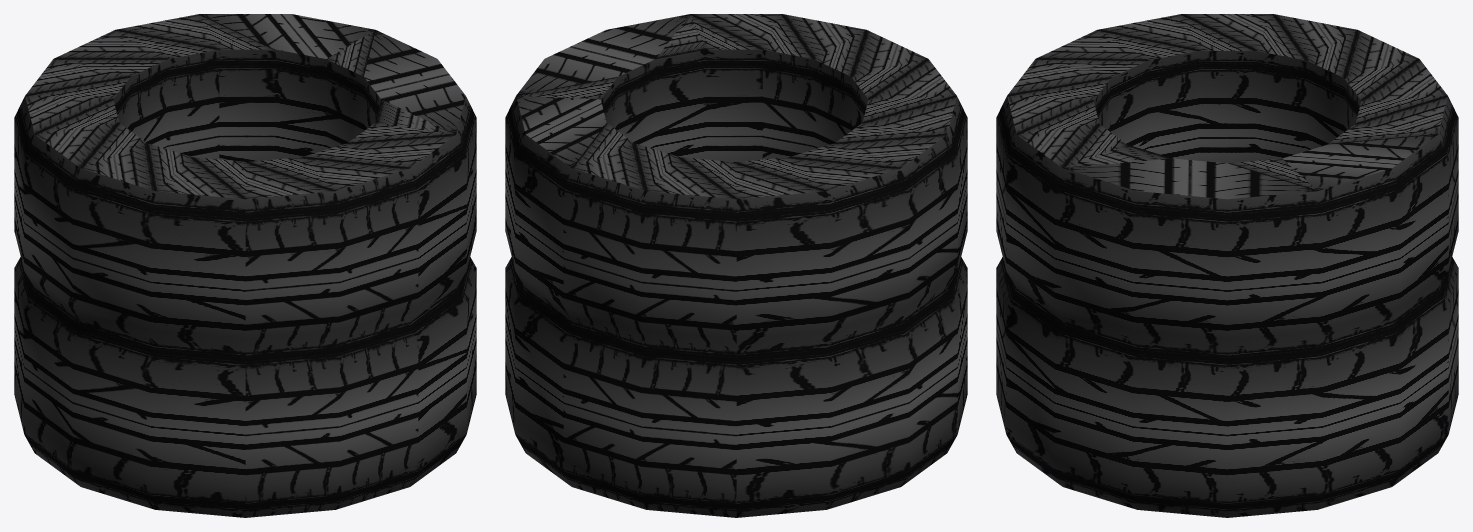
Rendered from tire.FBX.
The picture shows the model from 3 angles, left to right: view 1: azimuth 30°, elevation 25°; view 2: azimuth 150°, elevation 25°; view 3: azimuth 270°, elevation 25°; orthographic projection.
Visible parts, largest first — view 1: Cylinder01; view 2: Cylinder01; view 3: Cylinder01.
Boxes of the visible parts, x1,y1,x2,y2 form: Cylinder01: [14, 14, 476, 517]; Cylinder01: [505, 14, 967, 517]; Cylinder01: [996, 14, 1458, 517].
Size of the model in its own units: 0.6964 by 0.5324 by 0.7002.
